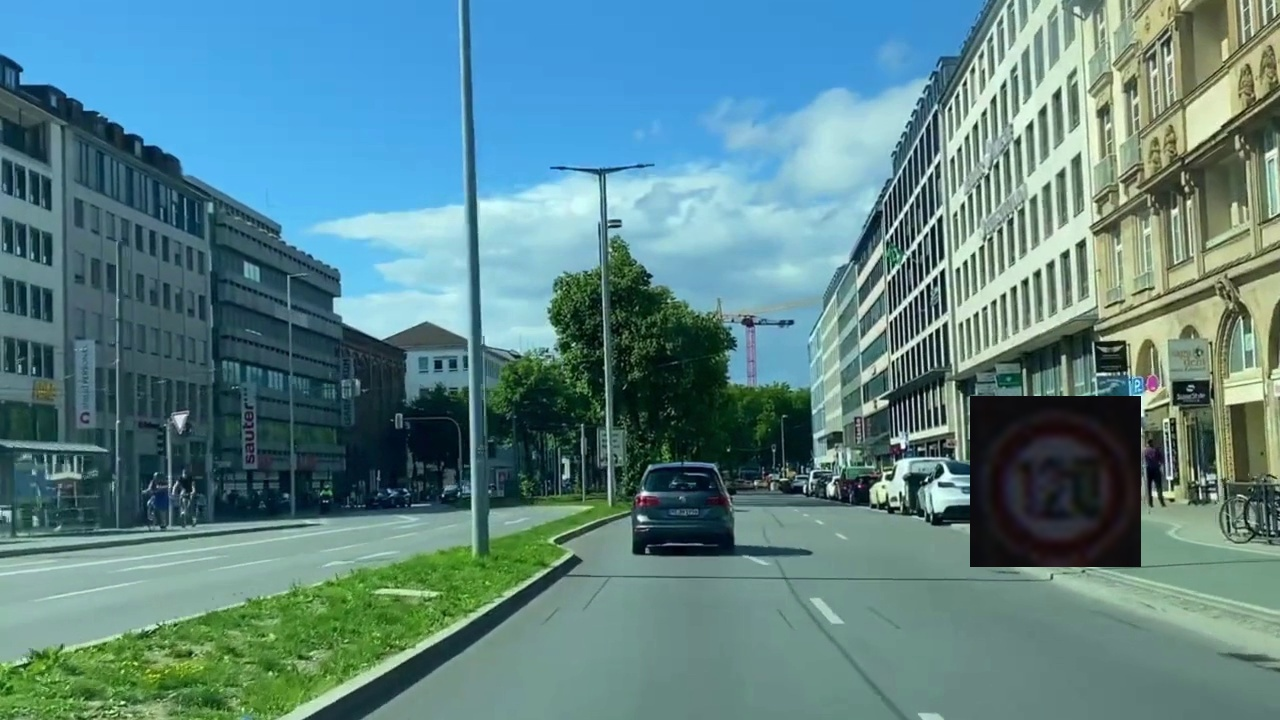Speed 120: (970, 396, 1141, 567)
